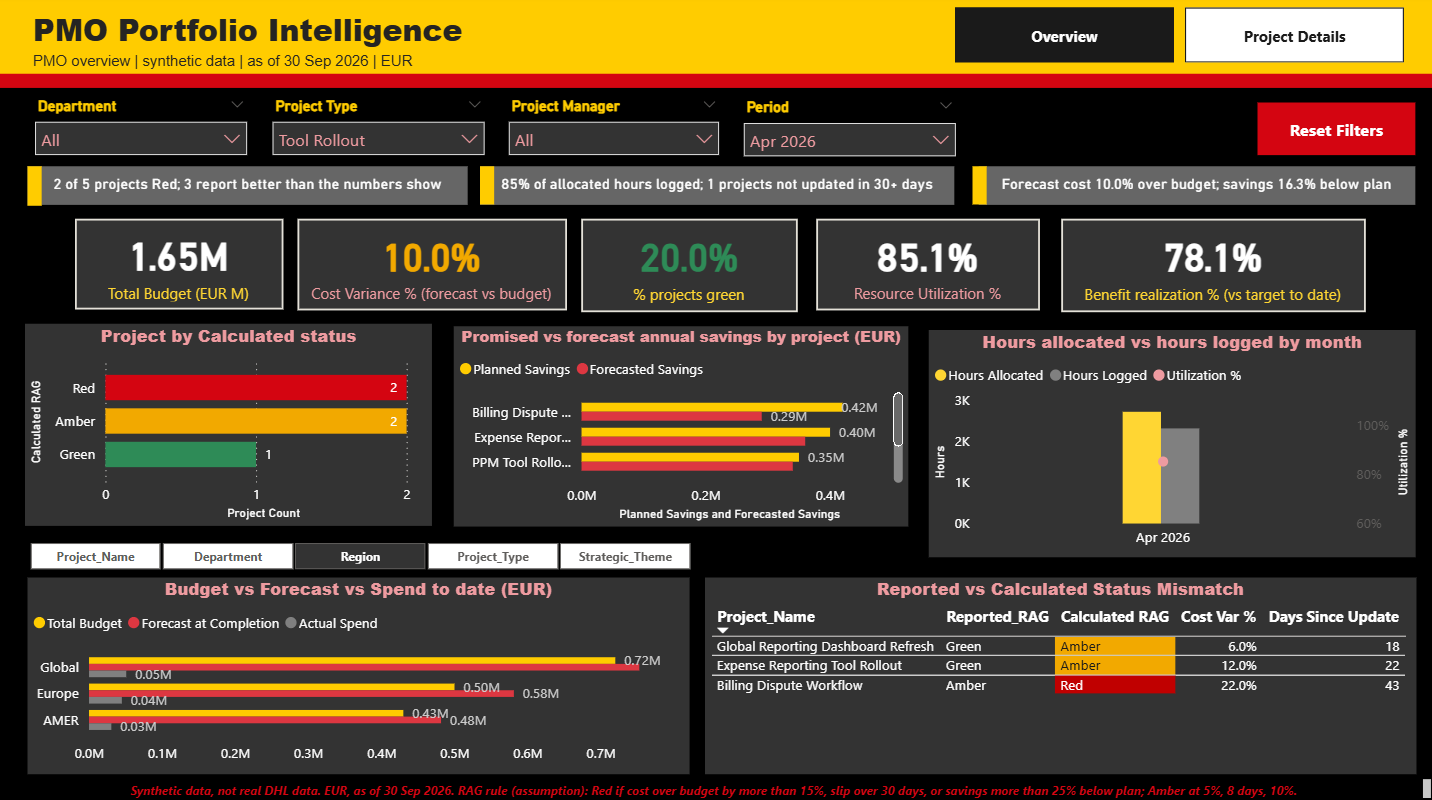

What the dashboard file says about the page in this screenshot:
{"tool":"powerbi","page":{"name":"Overview","canvas":[1280,720],"ordinal":0},"visuals":[{"type":"slicer","title":"Breakdown By","fields":{"Values":["Breakdown By.Breakdown By"]},"box":[1.5,480.7,637.9,37.8],"z":0},{"type":"shape","box":[0,0,1280.3,70.6],"z":1000},{"type":"shape","box":[0,70.6,1280.3,12.6],"z":2000},{"type":"textbox","box":[24,6.3,688.7,70.6],"z":3000},{"type":"slicer","fields":{"Values":["Projects.Department"]},"box":[20.6,85.7,210.6,58],"z":4000},{"type":"slicer","fields":{"Values":["Projects.Project_Type"]},"box":[231.2,85.7,210.6,58],"z":5000},{"type":"slicer","fields":{"Values":["Projects.Project_Manager"]},"box":[441.8,85.7,209.4,58],"z":6000},{"type":"slicer","fields":{"Values":["DateTable.Month Name"]},"box":[651.2,86.9,210.6,58],"z":7000},{"type":"actionButton","box":[1120.1,95.2,140.6,46.9],"z":8000},{"type":"card","fields":{"Values":["Measurez.Insight 1"]},"box":[24.2,152.4,392.3,34.1],"z":9000},{"type":"card","fields":{"Values":["Measurez.Insight 2"]},"box":[427.8,152.4,422.5,34.1],"z":10000},{"type":"card","fields":{"Values":["Measurez.Insight 3"]},"box":[871.6,152.6,388.5,34.1],"z":11000},{"type":"card","fields":{"Values":["Measurez.Total Budget"]},"box":[67.1,199.5,185.4,80.7],"z":12000},{"type":"card","fields":{"Values":["Measurez.Cost Variance %"]},"box":[265.1,199.5,239.7,82],"z":13000},{"type":"card","fields":{"Values":["Measurez.% Green"]},"box":[517.4,199.5,193,83.2],"z":14000},{"type":"card","fields":{"Values":["Measurez.Utilization %"]},"box":[726.8,199.5,199.3,82],"z":15000},{"type":"card","fields":{"Values":["Measurez.Benefit Realization %"]},"box":[944.7,199.5,271.2,83.2],"z":16000},{"type":"clusteredBarChart","title":"Project by Calculated status","fields":{"Category":["Projects.Calculated RAG"],"Y":["Measurez.Project Count"]},"box":[22.7,293.2,362.8,179.9],"z":17000},{"type":"tableEx","title":"Reported vs Calculated Status Mismatch","fields":{"Values":["Projects.Project_Name","Projects.Reported_RAG","Projects.Calculated RAG","Projects.Cost Var %","Projects.Days Since Update"]},"box":[627.3,518.5,633.4,175.3],"z":18000},{"type":"clusteredBarChart","title":"Budget vs Forecast vs Spend to date (EUR)","fields":{"Category":["Projects.Region"],"Y":["Measurez.Total Budget","Measurez.Forecast at Completion","Measurez.Actual Spend"]},"box":[24.2,518.5,589.5,175.3],"z":19000},{"type":"lineClusteredColumnComboChart","title":"Hours allocated vs hours logged by month","fields":{"Y":["Sum(Monthly.Hours_Allocated)","Sum(Monthly.Hours_Logged)"],"Y2":["Measurez.Utilization %"],"Category":["DateTable.Month Name"]},"box":[826.8,297.8,433.8,202.6],"z":20000},{"type":"clusteredBarChart","title":"Promised vs forecast annual savings by project (EUR)","fields":{"Category":["Projects.Project_Name"],"Y":["Measurez.Planned Savings","Measurez.Forecast Savings"]},"box":[403.6,294.8,405.1,178.4],"z":21000},{"type":"textbox","box":[0,693.7,1280.3,26.5],"z":22000},{"type":"shape","box":[24.2,152.4,12.6,35.3],"z":23000},{"type":"shape","box":[865.5,152.4,12.6,34.1],"z":24000},{"type":"shape","box":[427.8,152.4,12.6,34.1],"z":25000},{"type":"pageNavigator","box":[851,10.6,400.6,49.9],"z":26000}]}

Visuals, with their boxes in screenshot pixels (x1, y1, x2, y2), scaled from the page's 1280x720 canvas onto the 1432x800 screenshot:
"Breakdown By" slicer: <box>2,534,715,576</box>
shape: <box>0,0,1431,78</box>
shape: <box>0,78,1431,92</box>
textbox: <box>27,7,797,85</box>
slicer - Projects.Department: <box>23,95,259,160</box>
slicer - Projects.Project_Type: <box>259,95,494,160</box>
slicer - Projects.Project_Manager: <box>494,95,729,160</box>
slicer - DateTable.Month Name: <box>729,97,964,161</box>
actionButton: <box>1253,106,1410,158</box>
card - Measurez.Insight 1: <box>27,169,466,207</box>
card - Measurez.Insight 2: <box>479,169,951,207</box>
card - Measurez.Insight 3: <box>975,170,1410,207</box>
card - Measurez.Total Budget: <box>75,222,282,311</box>
card - Measurez.Cost Variance %: <box>297,222,565,313</box>
card - Measurez.% Green: <box>579,222,795,314</box>
card - Measurez.Utilization %: <box>813,222,1036,313</box>
card - Measurez.Benefit Realization %: <box>1057,222,1360,314</box>
"Project by Calculated status" clusteredBarChart: <box>25,326,431,526</box>
"Reported vs Calculated Status Mismatch" tableEx: <box>702,576,1410,771</box>
"Budget vs Forecast vs Spend to date (EUR)" clusteredBarChart: <box>27,576,687,771</box>
"Hours allocated vs hours logged by month" lineClusteredColumnComboChart: <box>925,331,1410,556</box>
"Promised vs forecast annual savings by project (EUR)" clusteredBarChart: <box>452,328,905,526</box>
textbox: <box>0,771,1431,799</box>
shape: <box>27,169,41,209</box>
shape: <box>968,169,982,207</box>
shape: <box>479,169,493,207</box>
pageNavigator: <box>952,12,1400,67</box>
